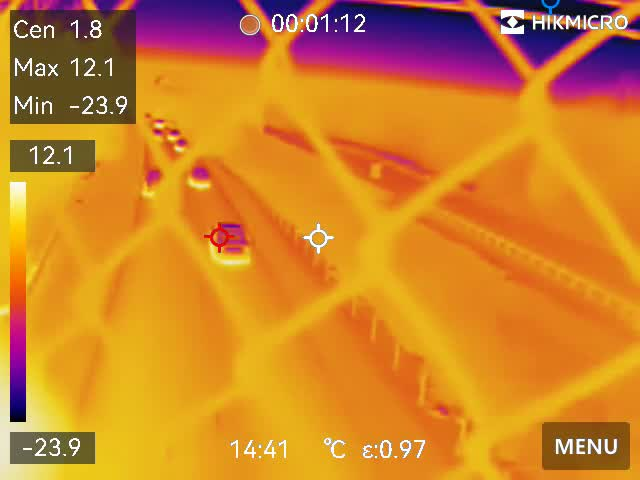vehicle: (210, 221, 252, 269), (183, 165, 218, 198), (140, 167, 167, 195), (174, 134, 191, 155), (168, 128, 182, 138)
